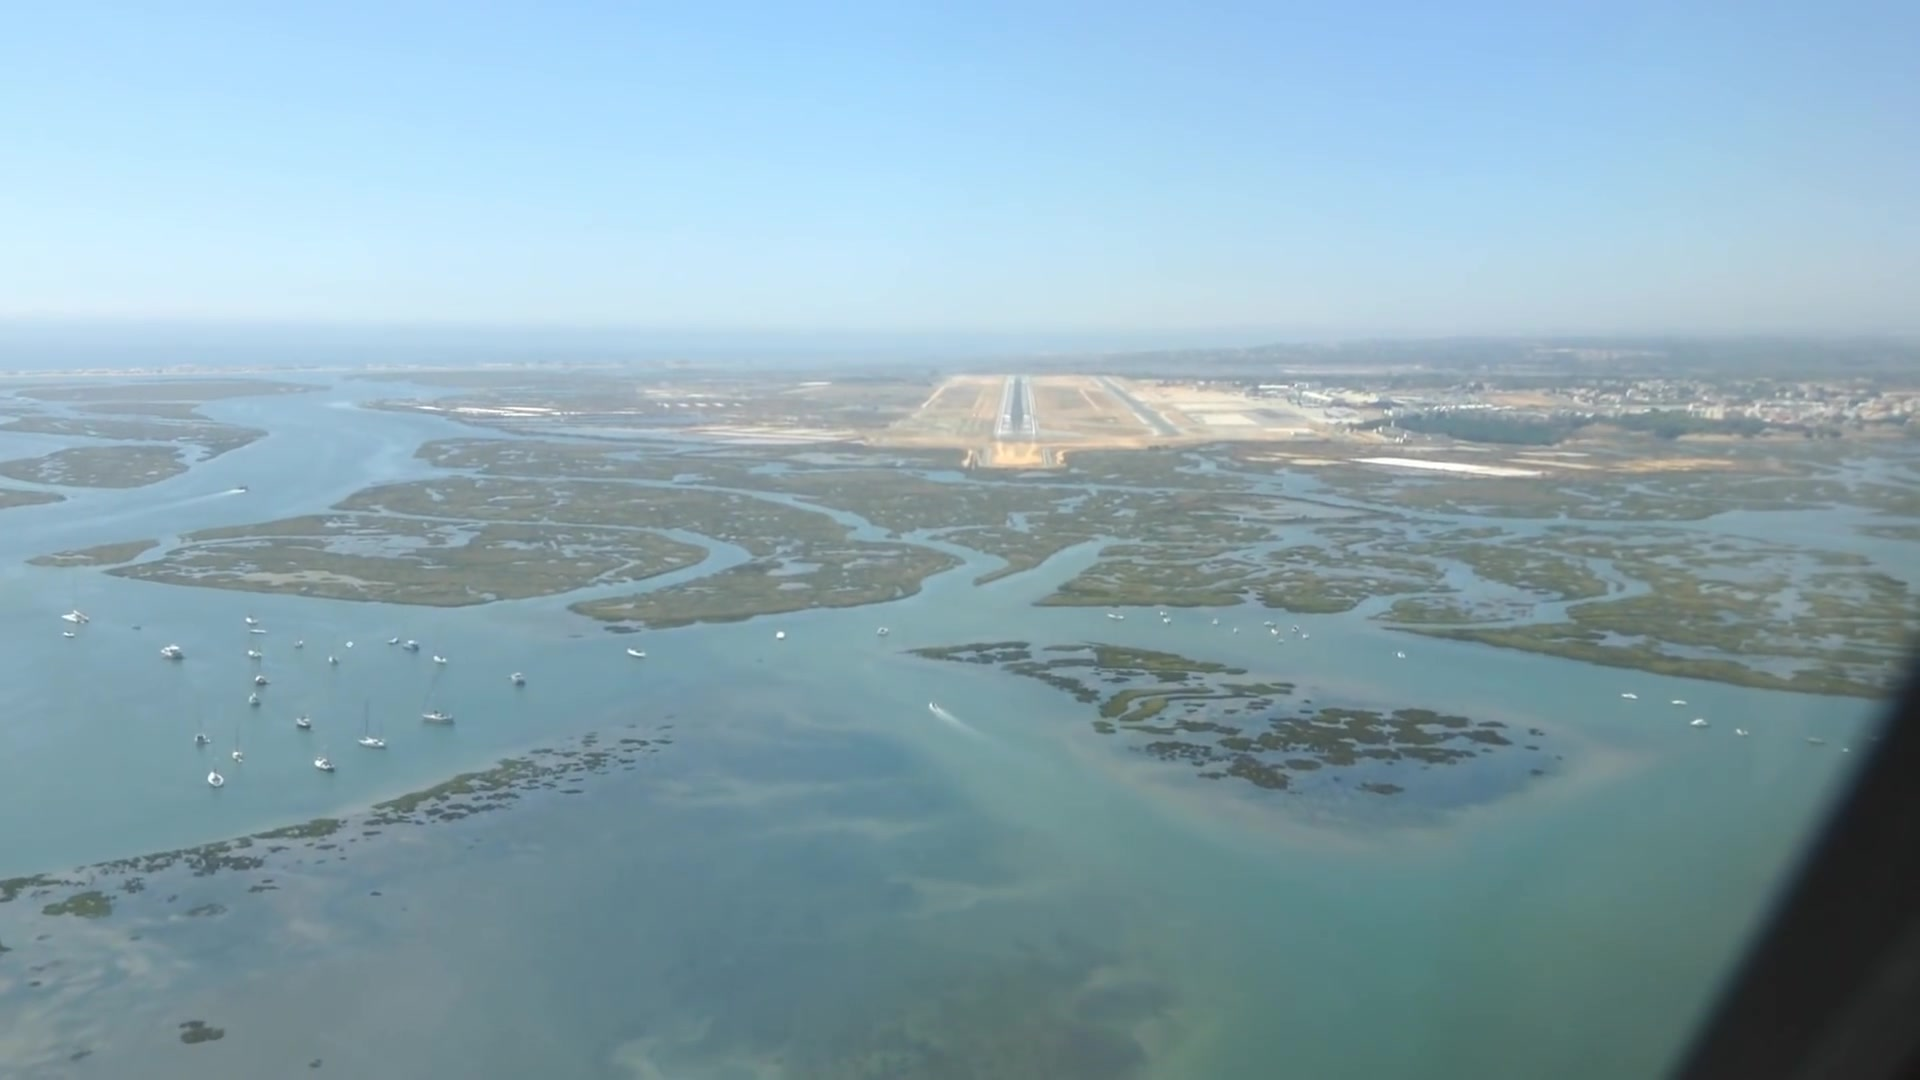runway: (996, 373, 1040, 436)
